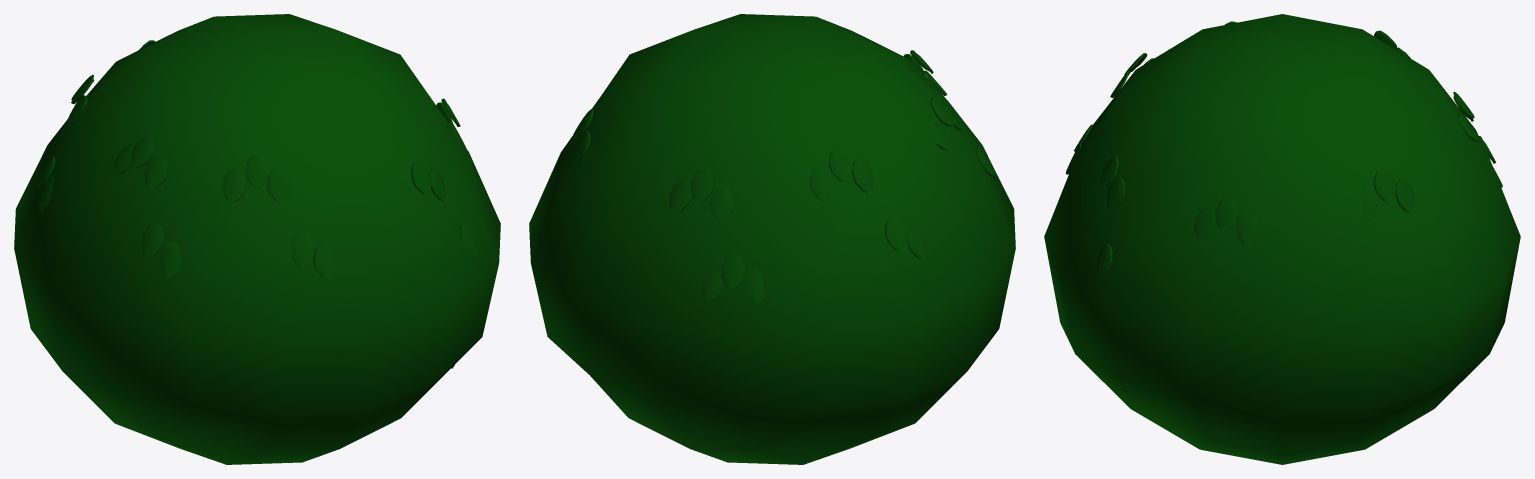
Rendered from bushes 1.fbx.
The picture shows the model from 3 angles, left to right: view 1: azimuth 30°, elevation 25°; view 2: azimuth 150°, elevation 25°; view 3: azimuth 270°, elevation 25°; orthographic projection.
Parts seen in each view (by area): view 1: polySurface257, polySurface227, polySurface228, polySurface229, polySurface202, polySurface224, polySurface199, polySurface197, polySurface226, polySurface200, polySurface236; view 2: polySurface257, polySurface220, polySurface215, polySurface210, polySurface218, polySurface209, polySurface206, polySurface219, polySurface211, polySurface216, polySurface217; view 3: polySurface257, polySurface245, polySurface247, polySurface254, polySurface246, polySurface256.
Boxes of the visible parts, left/top/right/bottom form: polySurface257: left=14, top=14, right=500, bottom=464; polySurface227: left=245, top=154, right=268, bottom=188; polySurface228: left=222, top=168, right=246, bottom=202; polySurface229: left=267, top=169, right=290, bottom=203; polySurface202: left=144, top=155, right=167, bottom=189; polySurface224: left=292, top=233, right=313, bottom=268; polySurface199: left=159, top=241, right=180, bottom=276; polySurface197: left=141, top=223, right=163, bottom=257; polySurface226: left=313, top=245, right=335, bottom=279; polySurface200: left=131, top=135, right=154, bottom=167; polySurface236: left=411, top=161, right=431, bottom=194; polySurface257: left=529, top=14, right=1015, bottom=464; polySurface220: left=709, top=186, right=733, bottom=220; polySurface215: left=721, top=253, right=744, bottom=288; polySurface210: left=810, top=166, right=833, bottom=200; polySurface218: left=690, top=168, right=714, bottom=202; polySurface209: left=829, top=148, right=852, bottom=181; polySurface206: left=885, top=218, right=907, bottom=252; polySurface219: left=669, top=179, right=691, bottom=212; polySurface211: left=852, top=159, right=873, bottom=192; polySurface216: left=701, top=270, right=722, bottom=301; polySurface217: left=746, top=268, right=763, bottom=303; polySurface257: left=1044, top=14, right=1520, bottom=464; polySurface245: left=1215, top=197, right=1238, bottom=230; polySurface247: left=1236, top=212, right=1259, bottom=246; polySurface254: left=1374, top=169, right=1396, bottom=202; polySurface246: left=1194, top=208, right=1217, bottom=242; polySurface256: left=1395, top=179, right=1415, bottom=212.
Size of the model in its own units: 0.2444 by 0.228 by 0.2444.
